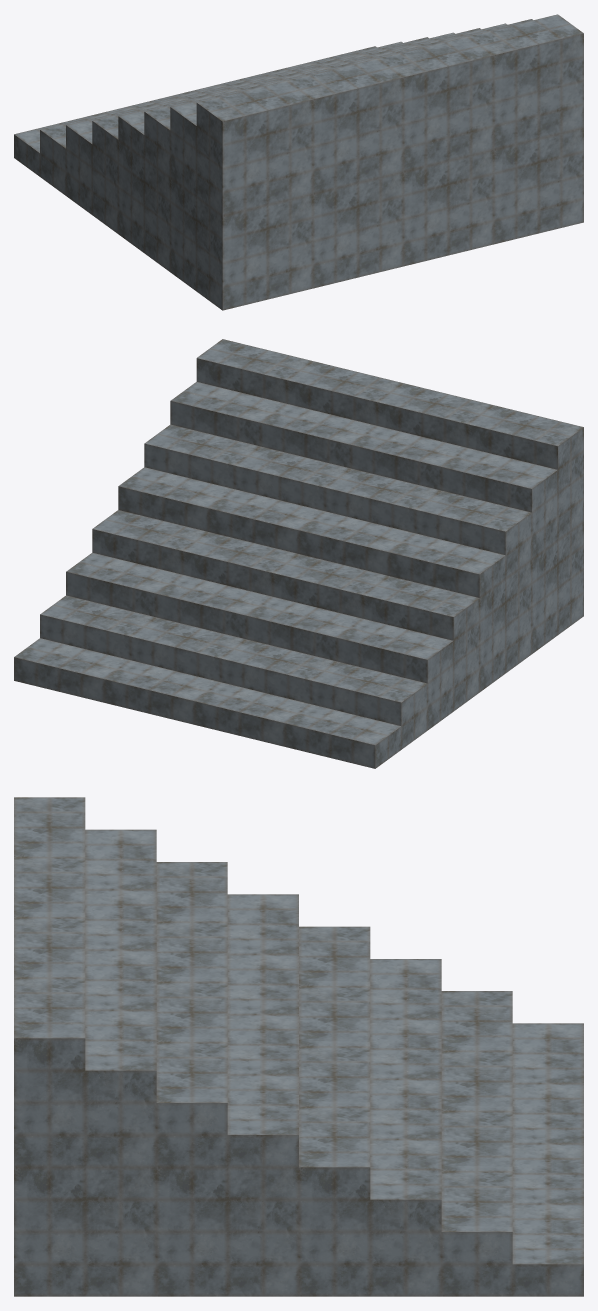
The model's file is StairBlock.obj.
3 views of the same model, one above another, from view 1: azimuth 30°, elevation 25°; view 2: azimuth 150°, elevation 25°; view 3: azimuth 270°, elevation 25° (orthographic). The views are drawn at different scales.
Visible parts, largest first — view 1: StairBlock; view 2: StairBlock; view 3: StairBlock.
Boxes of the visible parts, x1,y1,x2,y2 form: StairBlock: [14, 14, 583, 310]; StairBlock: [14, 339, 583, 768]; StairBlock: [14, 797, 583, 1296].
Bounding box in the file's own units: 4 × 2 × 4.
